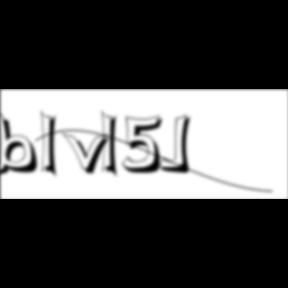5: (122, 114, 168, 176)
J: (158, 114, 198, 176)
b: (0, 109, 46, 179)
l: (42, 108, 64, 182), (102, 108, 124, 182)
v: (63, 131, 117, 177)
